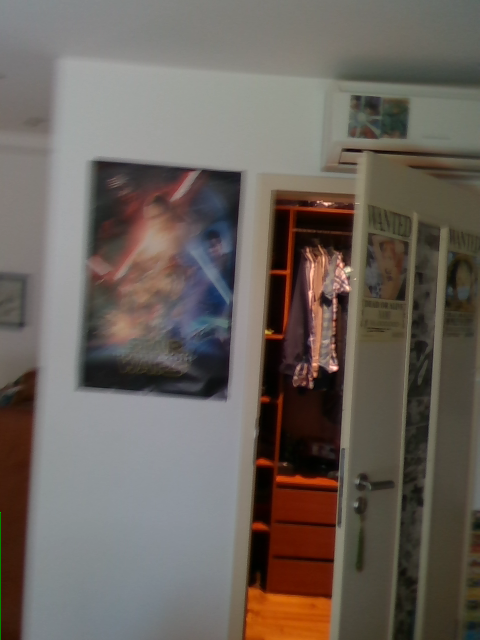semi: (226, 151, 474, 639)
